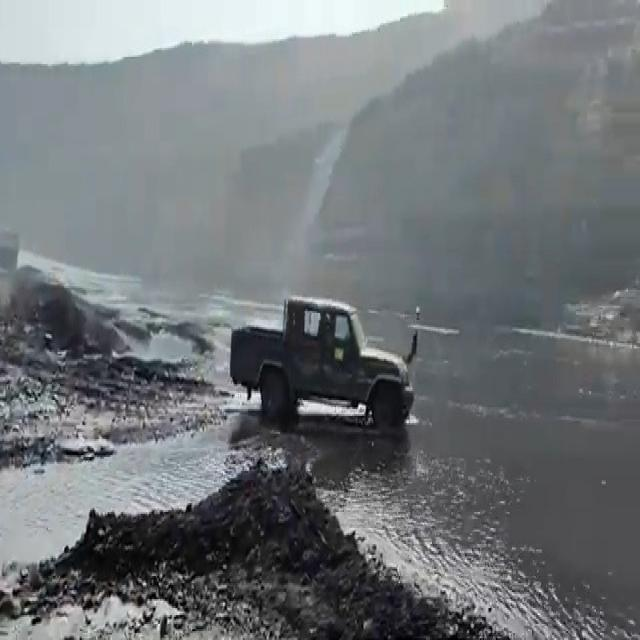light_vehicle: (229, 291, 418, 442)
